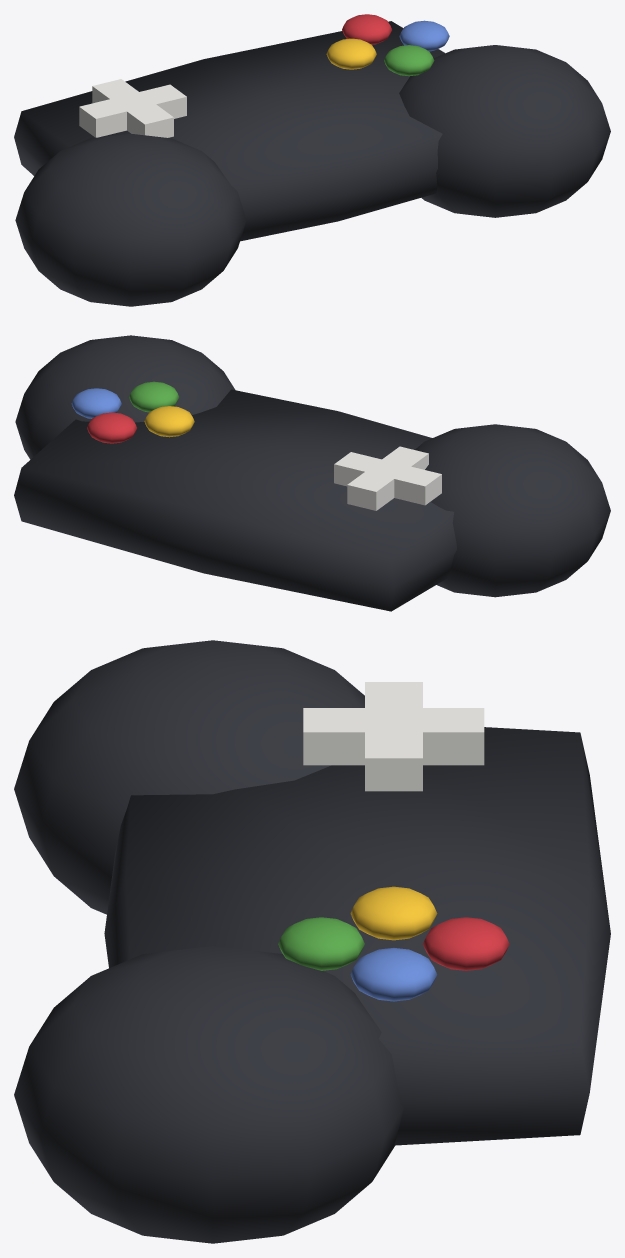
File: game_controller.glb
3 views of the same model, one above another, from view 1: azimuth 30°, elevation 25°; view 2: azimuth 150°, elevation 25°; view 3: azimuth 270°, elevation 25° (orthographic). The views are drawn at different scales.
Parts seen in each view (by area): view 1: root; view 2: root; view 3: root.
Part boxes in pixels (bbox=[...]): root: bbox=[14, 14, 610, 306]; root: bbox=[14, 335, 610, 611]; root: bbox=[14, 640, 610, 1243].
Bounding box in the file's own units: 0.31 × 0.077 × 0.165.
